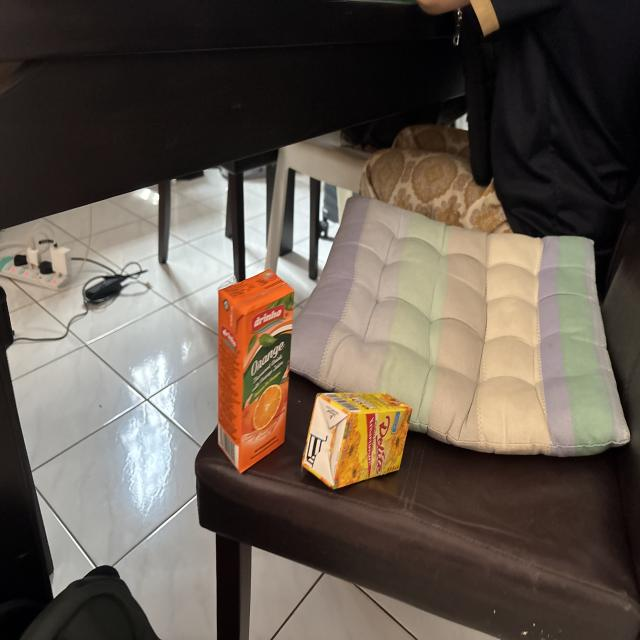drink_carton: (212, 264, 295, 476), (296, 382, 416, 494)
